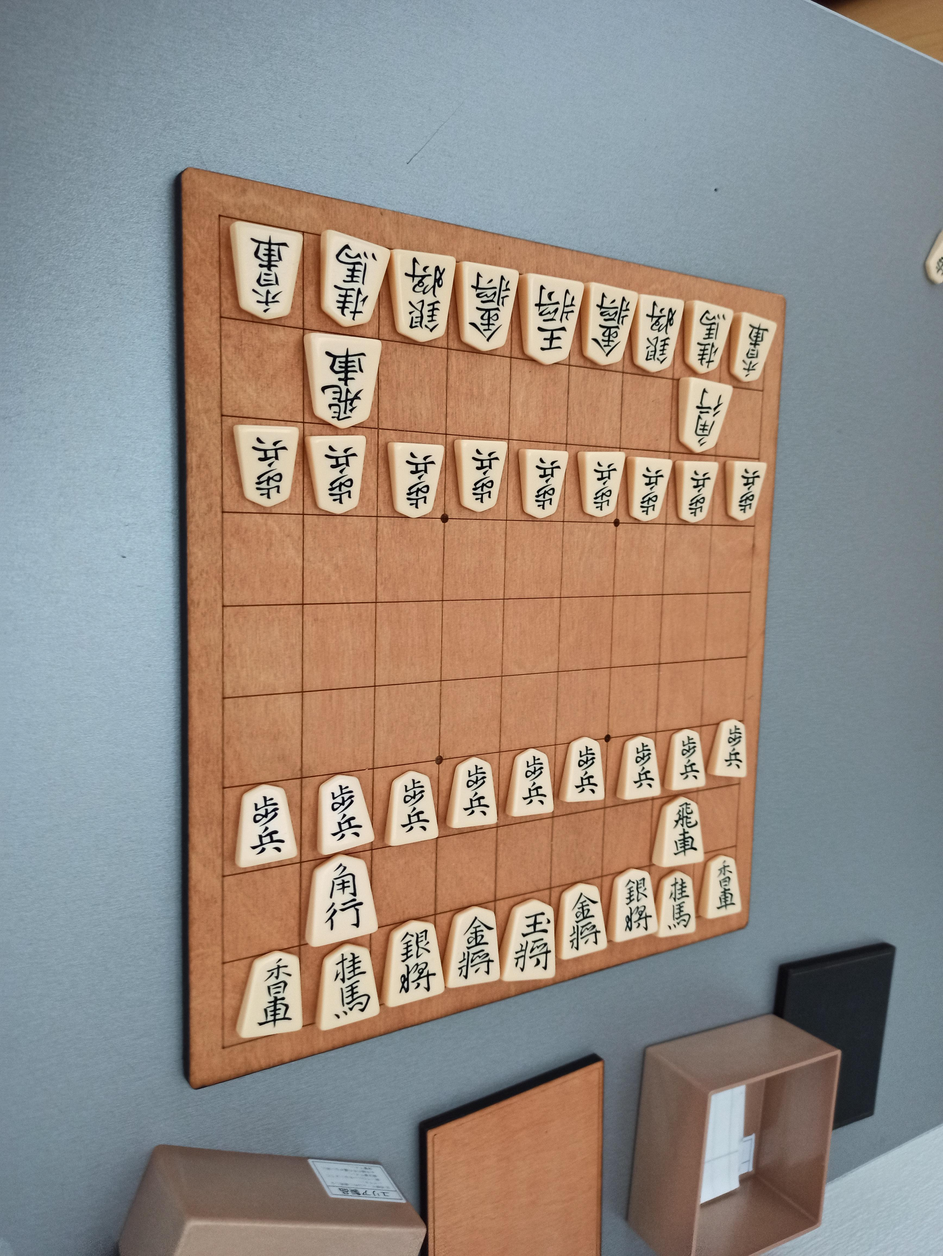board: (220, 215, 768, 1048)
